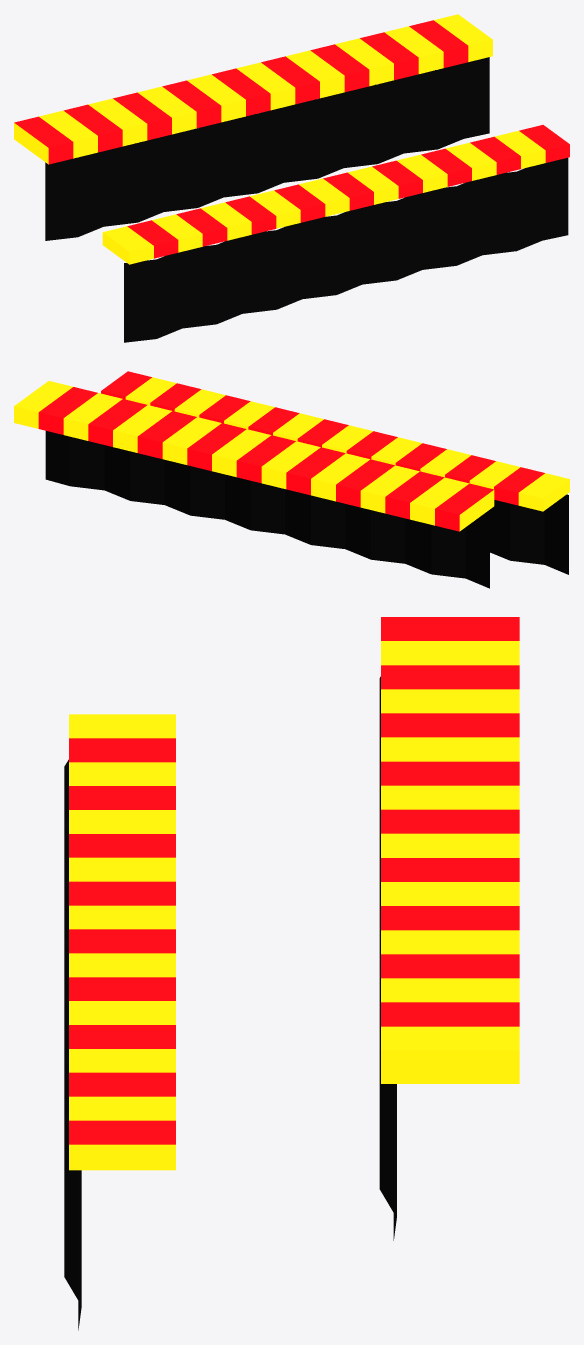
File: Platforms_v.2.fbx
3 views of the same model, one above another, from view 1: azimuth 30°, elevation 25°; view 2: azimuth 150°, elevation 25°; view 3: azimuth 270°, elevation 25° (orthographic). The views are drawn at different scales.
Parts seen in each view (by area): view 1: Plane.001, Plane, Cube.004, Cube.003; view 2: Cube.004, Plane, Cube.003, Plane.001; view 3: Cube.004, Cube.003, Plane.001, Plane.
Part boxes in pixels (bbox=[...]): Plane.001: bbox=[124, 157, 568, 342]; Plane: bbox=[45, 57, 489, 240]; Cube.004: bbox=[14, 14, 492, 164]; Cube.003: bbox=[102, 125, 569, 264]; Cube.004: bbox=[14, 381, 494, 531]; Plane: bbox=[45, 431, 489, 588]; Cube.003: bbox=[101, 371, 569, 511]; Plane.001: bbox=[490, 494, 568, 574]; Cube.004: bbox=[381, 617, 519, 1083]; Cube.003: bbox=[69, 714, 175, 1170]; Plane.001: bbox=[64, 759, 81, 1330]; Plane: bbox=[379, 676, 396, 1240].
Bounding box in the file's own units: 1698 × 512 × 753.
